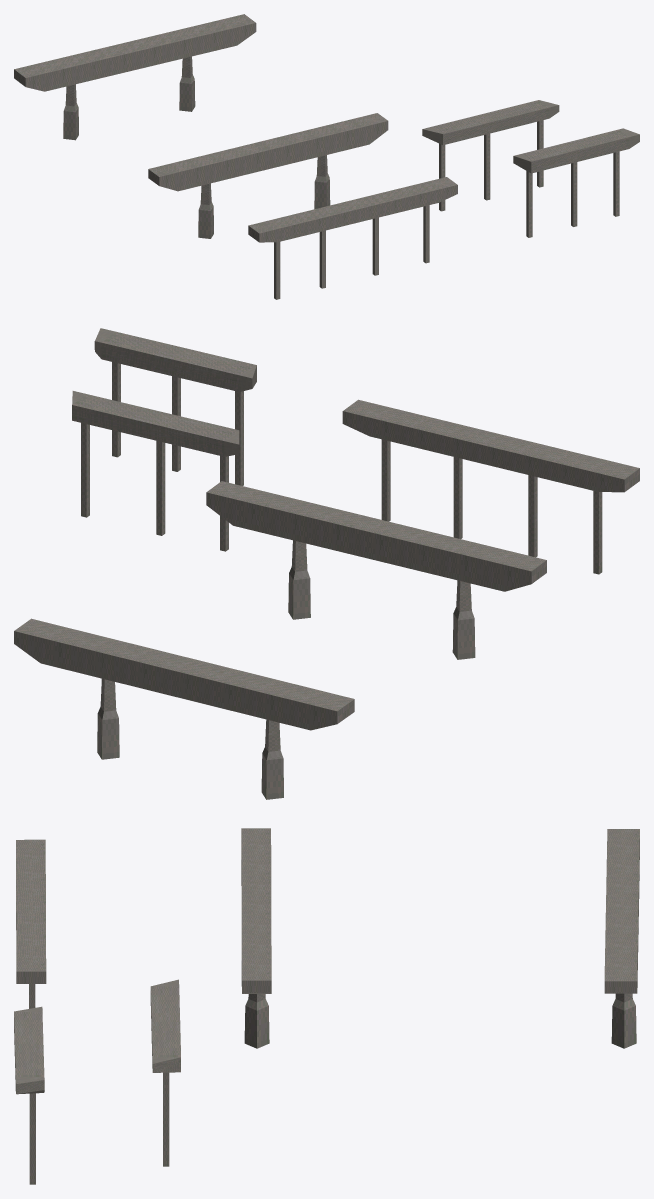
File: lodsupports05_lan.obj
The picture shows the model from 3 angles, top to bottom: view 1: azimuth 30°, elevation 25°; view 2: azimuth 150°, elevation 25°; view 3: azimuth 270°, elevation 25°; orthographic projection. The views are drawn at different scales.
Visible parts, largest first — view 1: LODsupports05_LAn; view 2: LODsupports05_LAn; view 3: LODsupports05_LAn.
Boxes of the visible parts, <box> form: LODsupports05_LAn: <box>14,14,639,299</box>; LODsupports05_LAn: <box>14,328,639,799</box>; LODsupports05_LAn: <box>14,828,639,1184</box>.
Size of the model in its own units: 69.06 by 13.58 by 69.18.
1 material, 1 textured.
